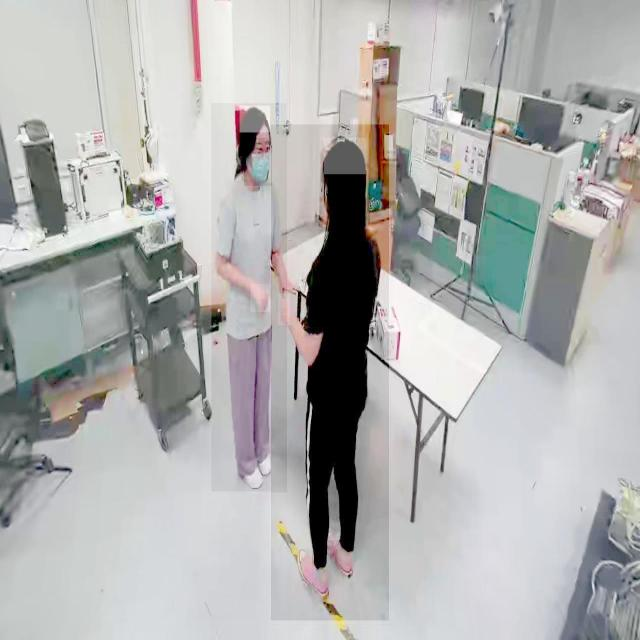face_mask: (244, 138, 272, 186)
hand_noglove: (250, 283, 270, 313), (278, 272, 300, 297), (278, 294, 290, 326)
head_nohelmet: (324, 138, 366, 175), (240, 106, 270, 133)
person: (271, 124, 389, 622), (211, 103, 287, 493)
shoes: (316, 520, 358, 584), (295, 542, 332, 598), (235, 448, 263, 491), (253, 432, 277, 478)
